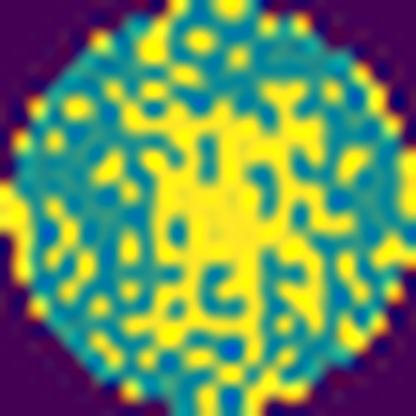Random: (88, 0, 356, 416)
